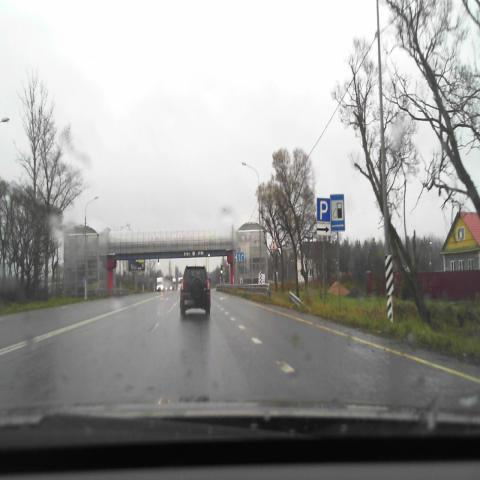6_4: (316, 197, 330, 222)
